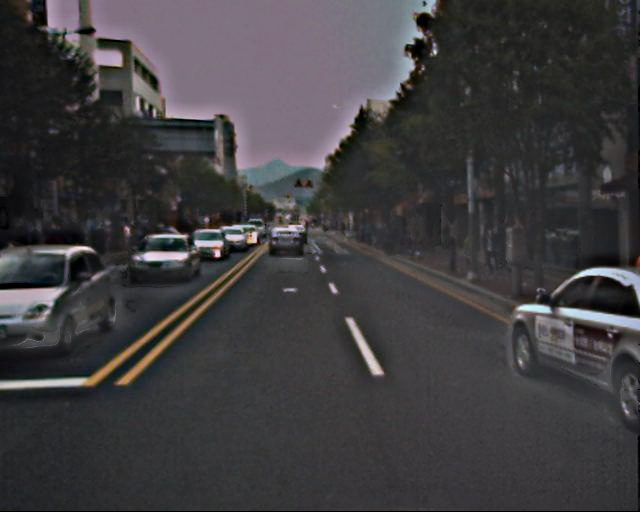person: (480, 223, 501, 274), (494, 223, 510, 263), (551, 229, 565, 263)
